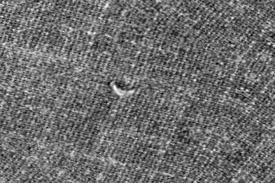snag: (106, 76, 146, 102)
